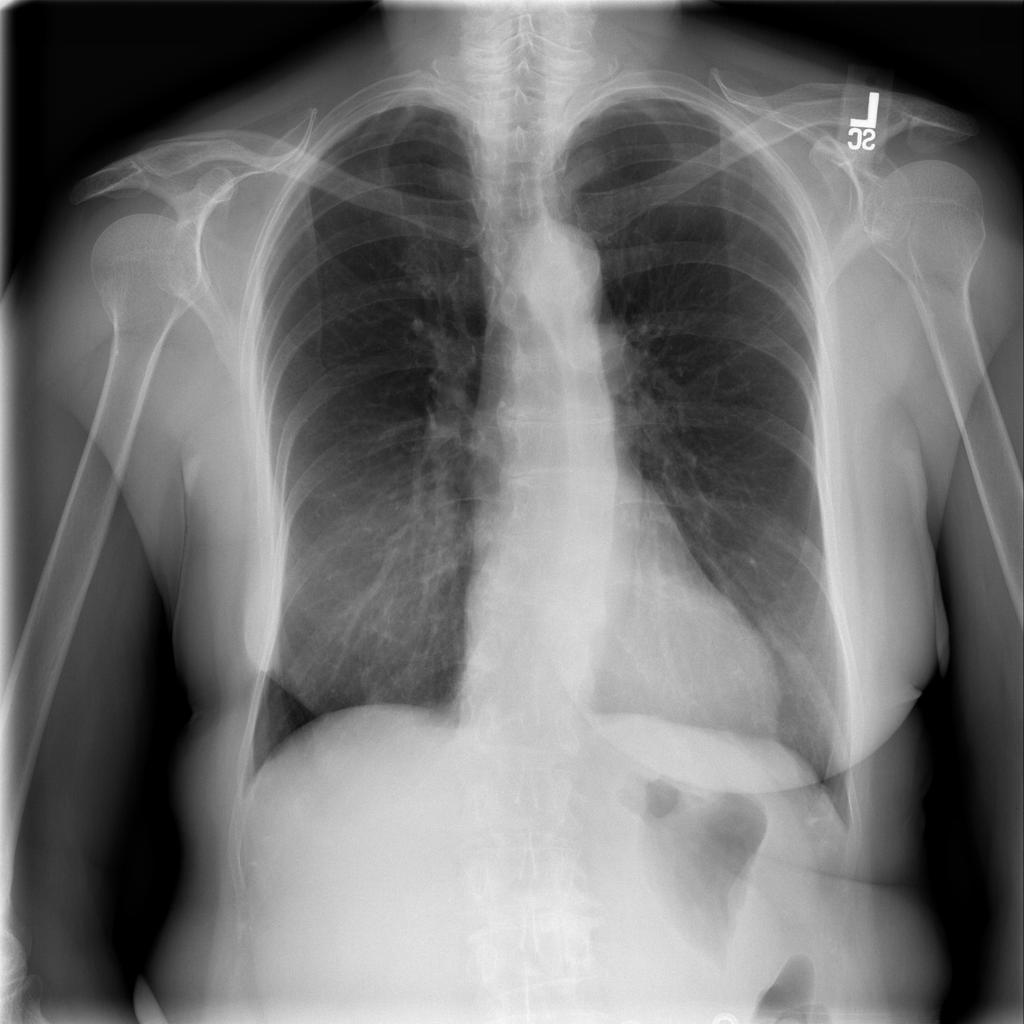nodule: (764, 505, 831, 582)
